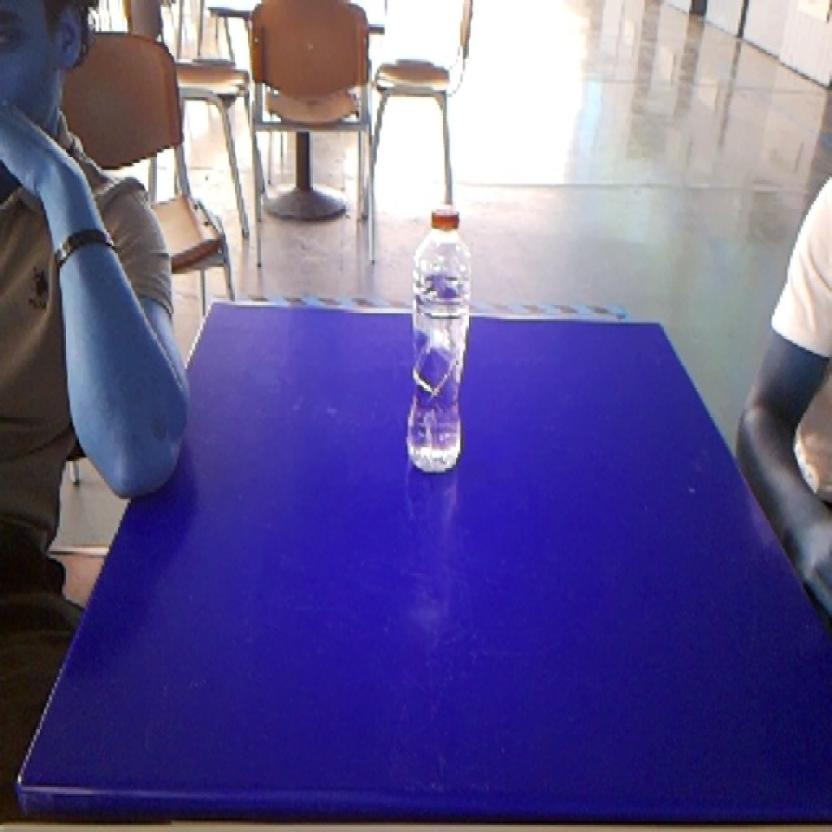no_label: (399, 190, 479, 477)
